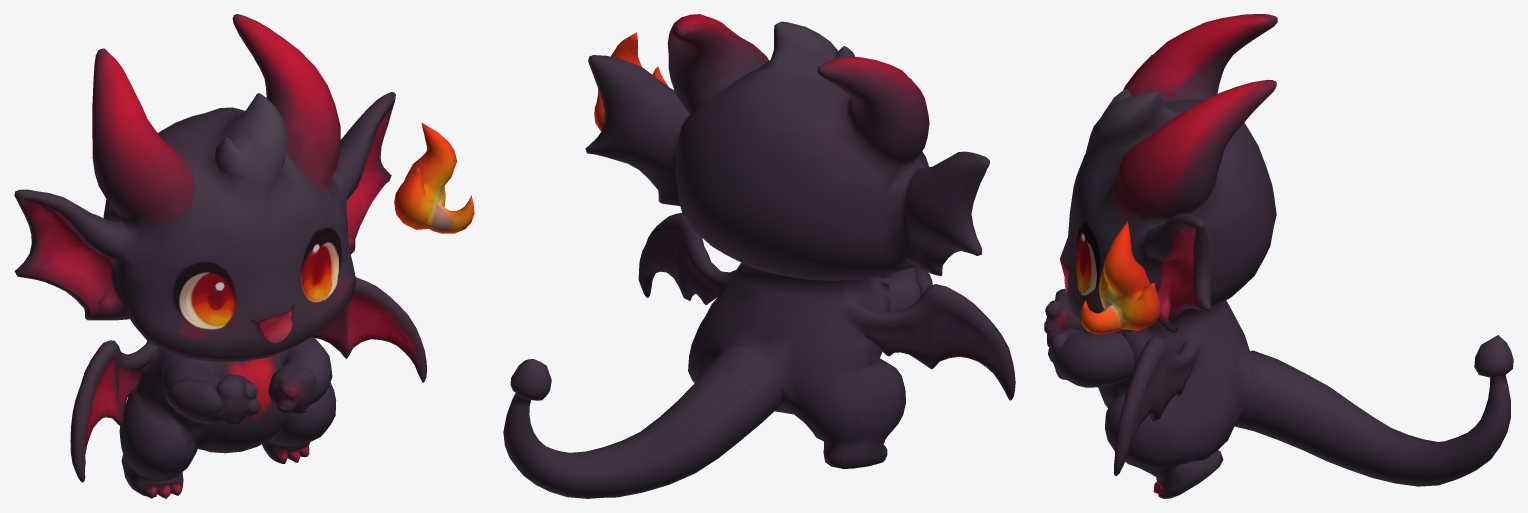
Rendered from avatar19.glb.
3 views of the same model, side by side, from view 1: azimuth 30°, elevation 25°; view 2: azimuth 150°, elevation 25°; view 3: azimuth 270°, elevation 25° (orthographic). The views are drawn at different scales.
Parts seen in each view (by area): view 1: tripo_node_f92cdfbb-6b41-4454-9c2d-0e27b5fff31e; view 2: tripo_node_f92cdfbb-6b41-4454-9c2d-0e27b5fff31e; view 3: tripo_node_f92cdfbb-6b41-4454-9c2d-0e27b5fff31e.
Part boxes in pixels (x1=…): tripo_node_f92cdfbb-6b41-4454-9c2d-0e27b5fff31e: x1=14, y1=14, x2=474, y2=498; tripo_node_f92cdfbb-6b41-4454-9c2d-0e27b5fff31e: x1=503, y1=14, x2=1015, y2=498; tripo_node_f92cdfbb-6b41-4454-9c2d-0e27b5fff31e: x1=1044, y1=14, x2=1513, y2=498.
Size of the model in its own units: 0.998 by 0.9785 by 0.998.
Materials: 1 (1 with a texture image).
